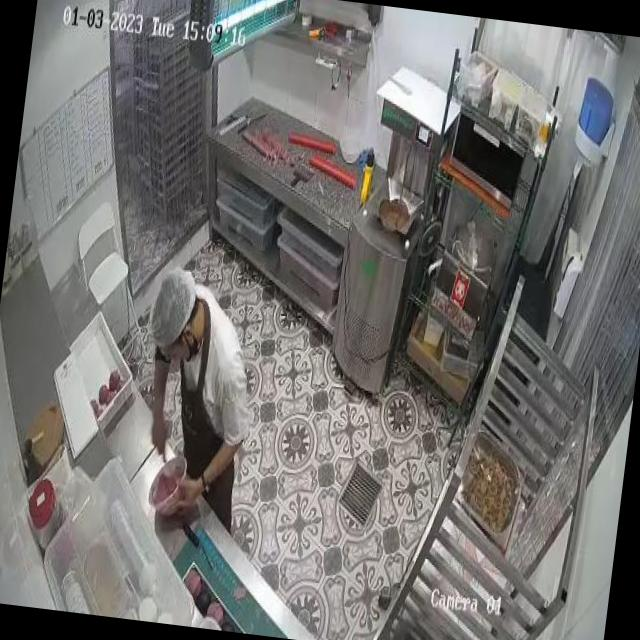hairnet: (152, 266, 194, 340)
